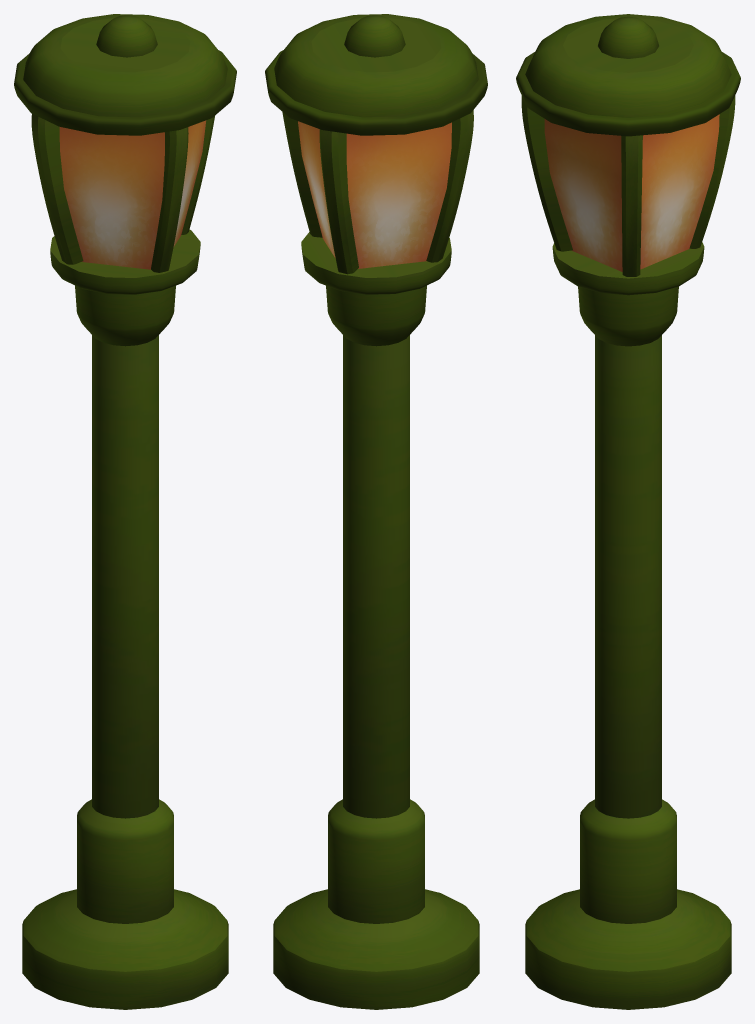
Rendered from streetlight.FBX.
3 views of the same model, side by side, from view 1: azimuth 30°, elevation 25°; view 2: azimuth 150°, elevation 25°; view 3: azimuth 270°, elevation 25° (orthographic).
Parts seen in each view (by area): view 1: light001; view 2: light001; view 3: light001.
Boxes of the visible parts, bbox=[...] form: light001: bbox=[14, 14, 236, 1009]; light001: bbox=[265, 14, 487, 1009]; light001: bbox=[516, 14, 740, 1009].
Size of the model in its own units: 31.17 by 145 by 31.17.
Materials: 1 (1 with a texture image).
